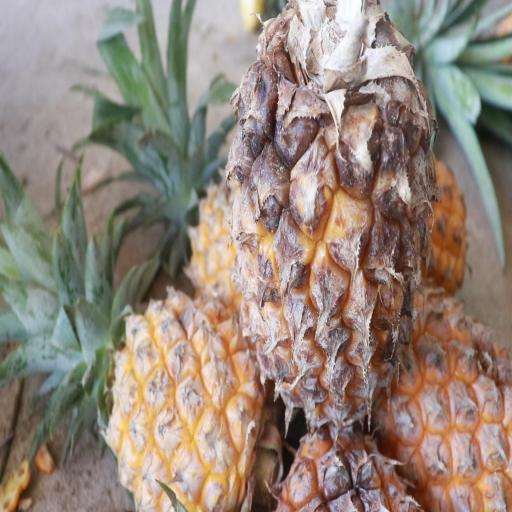Pineapple - v8 v1: (227, 1, 430, 441), (104, 214, 283, 512), (373, 270, 512, 507)
